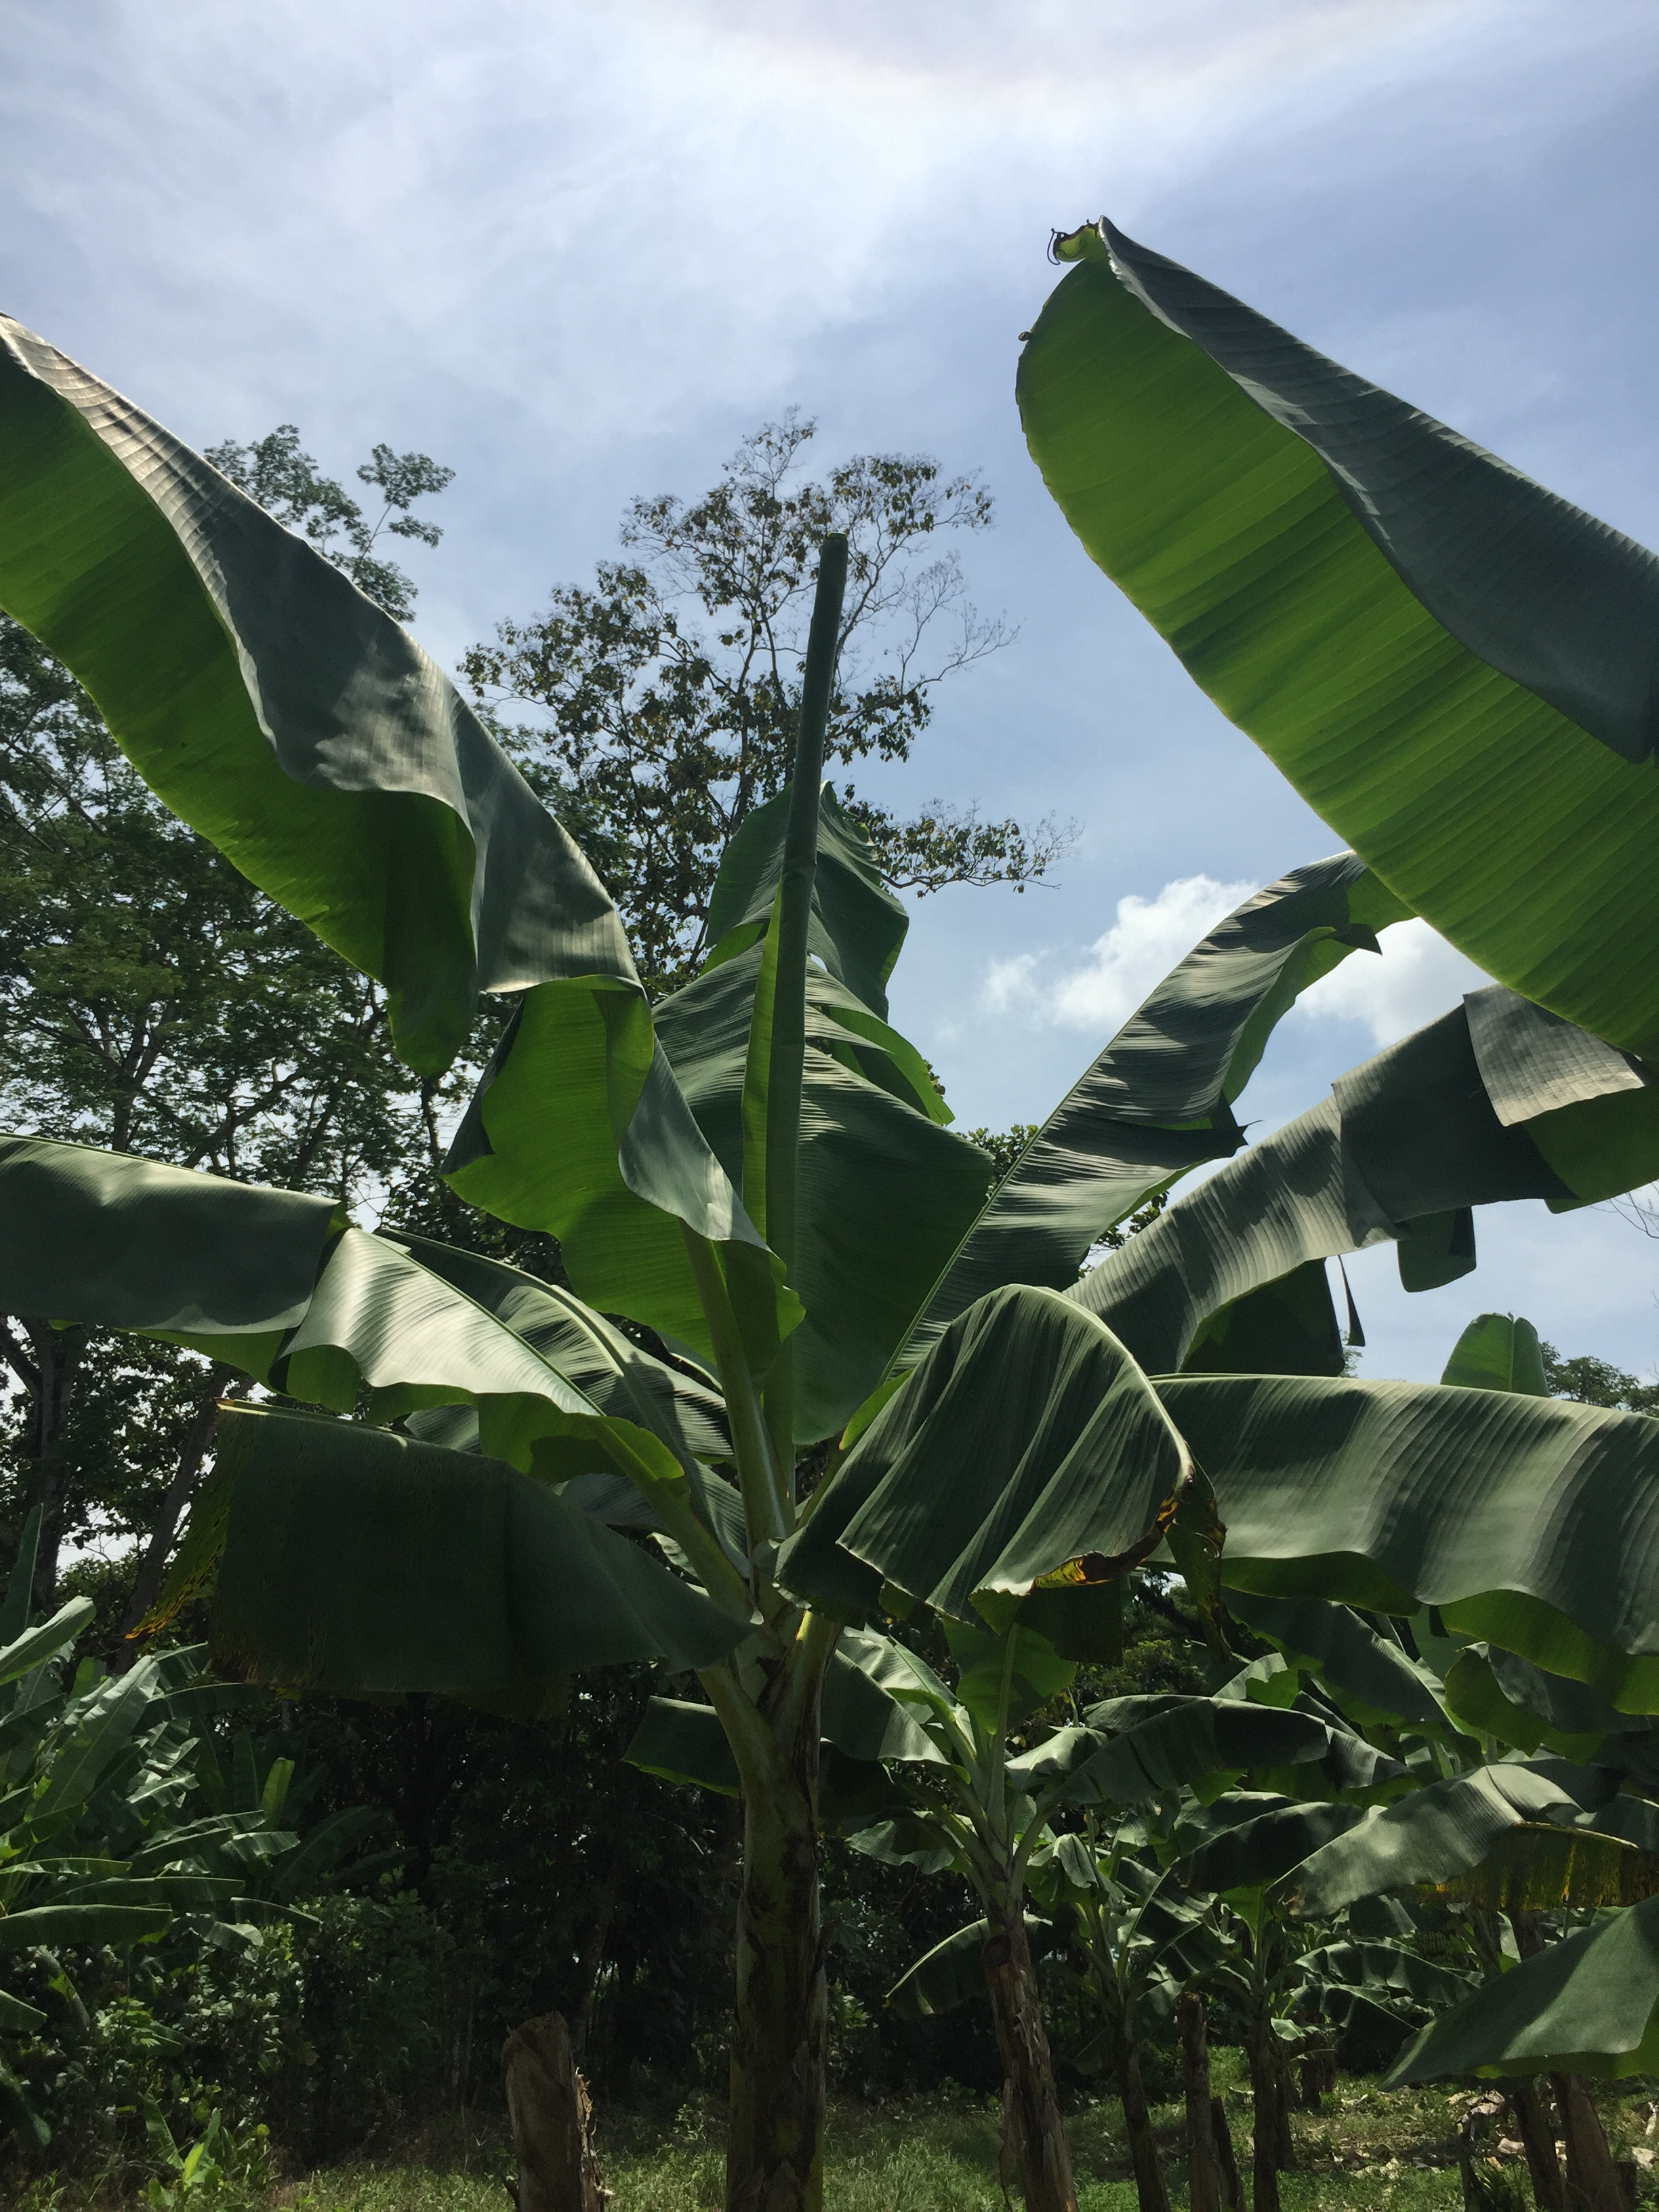candleleafs: (802, 533, 849, 1273)
